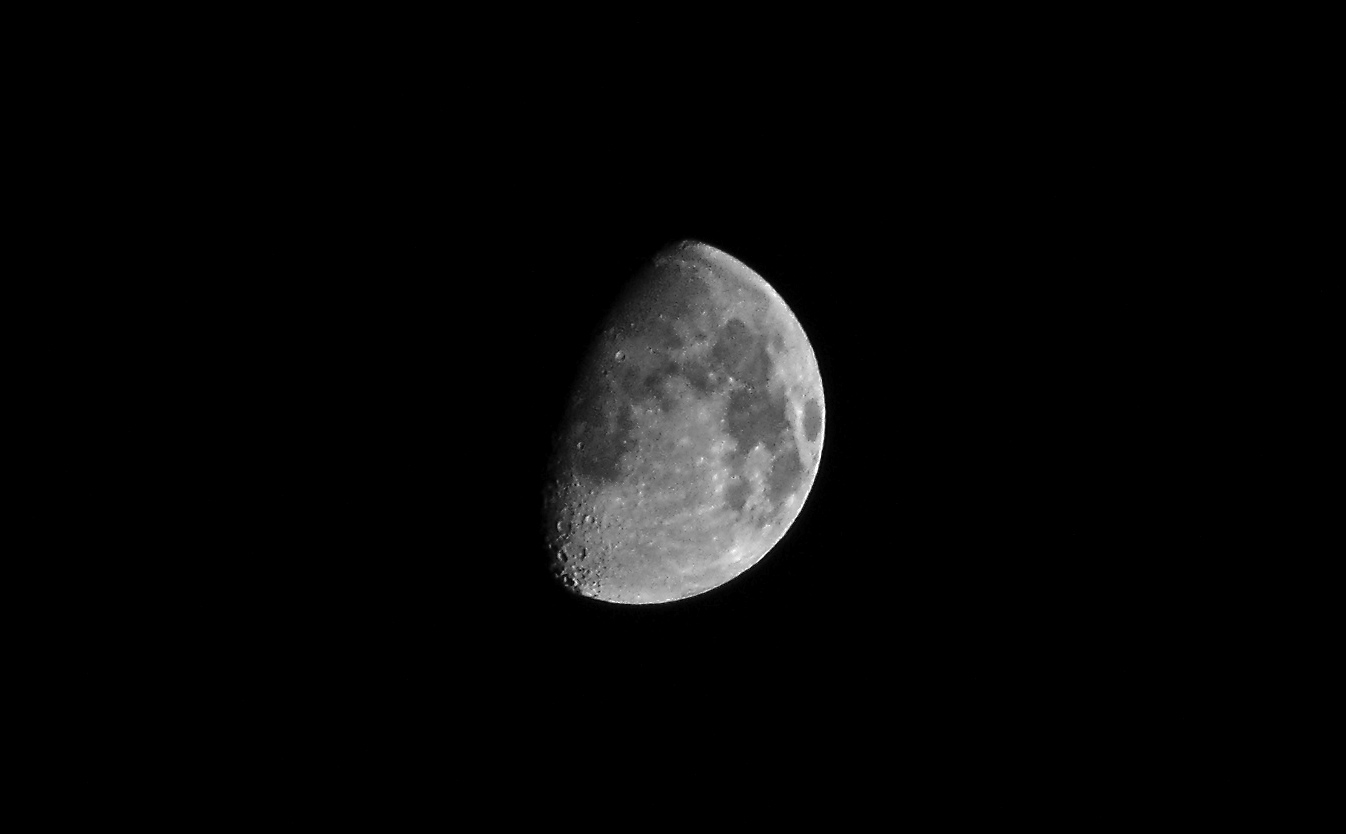crater: (607, 343, 632, 372), (576, 509, 603, 533), (551, 517, 578, 541)
